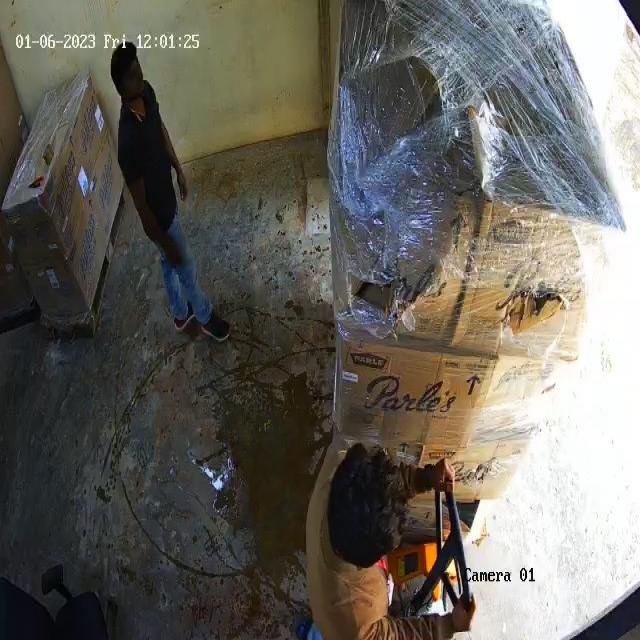leakage: (502, 275, 571, 341)
squeeze: (340, 68, 457, 308)
